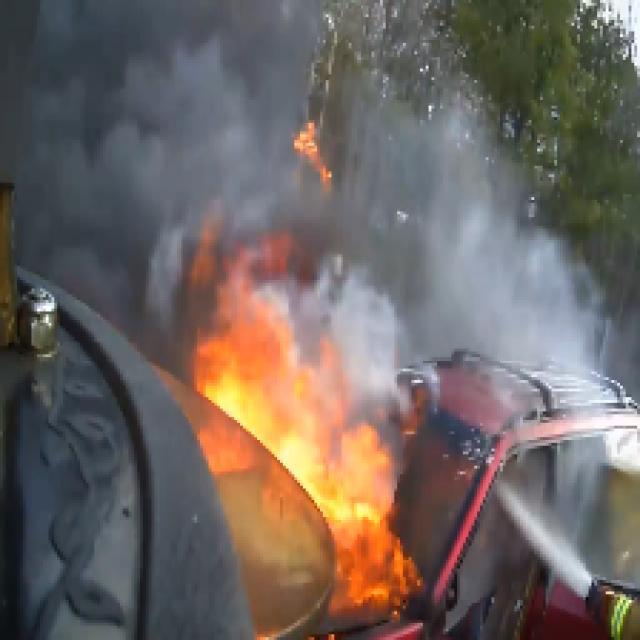Fire: (154, 245, 457, 620)
Smoke: (0, 0, 640, 329)
